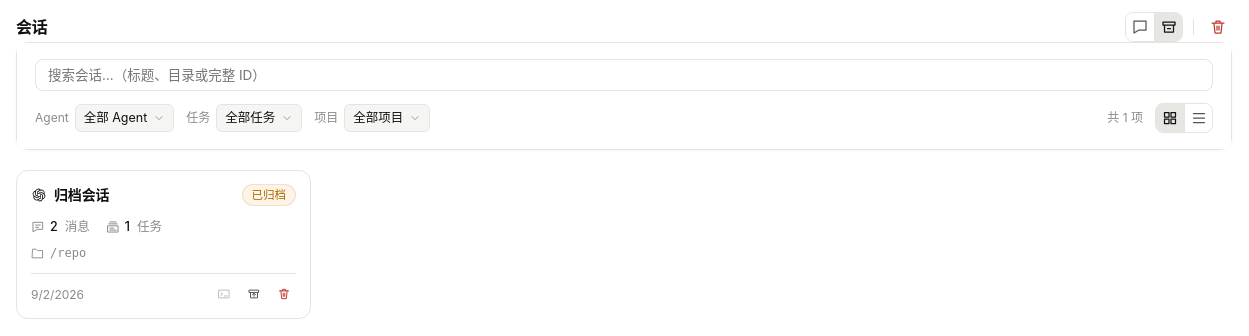
Test: shows archived sessions in the same cards and filters, with continue disabled
Expected: the text "归档会话" is shown, x1=54 y1=184 x2=110 y2=206
Expected: the button named "在终端中继续归档会话" is disabled, x1=212 y1=282 x2=236 y2=306
Type "不匹配" into the field labelled "搜索会话". click: (624, 75)
box: x1=35 y1=59 x2=1213 y2=91
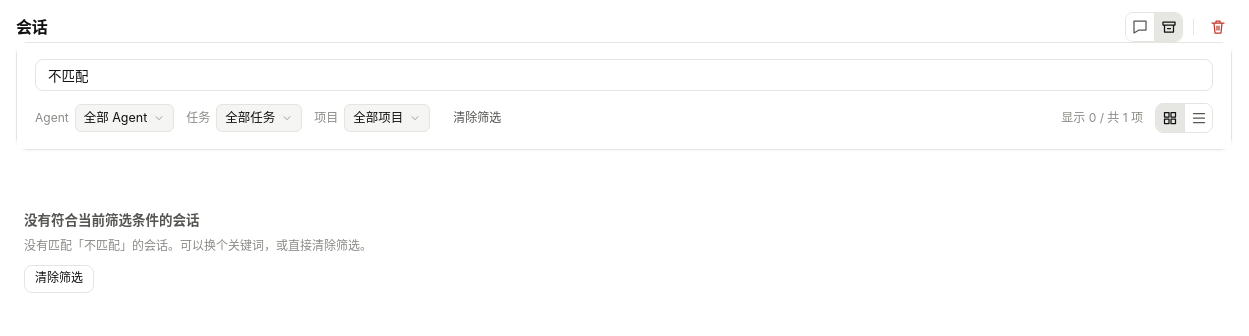
Expected: the text "没有符合当前筛选条件的会话" is shown, x1=24 y1=212 x2=200 y2=228
Expected: the button "归档会话" is gone
